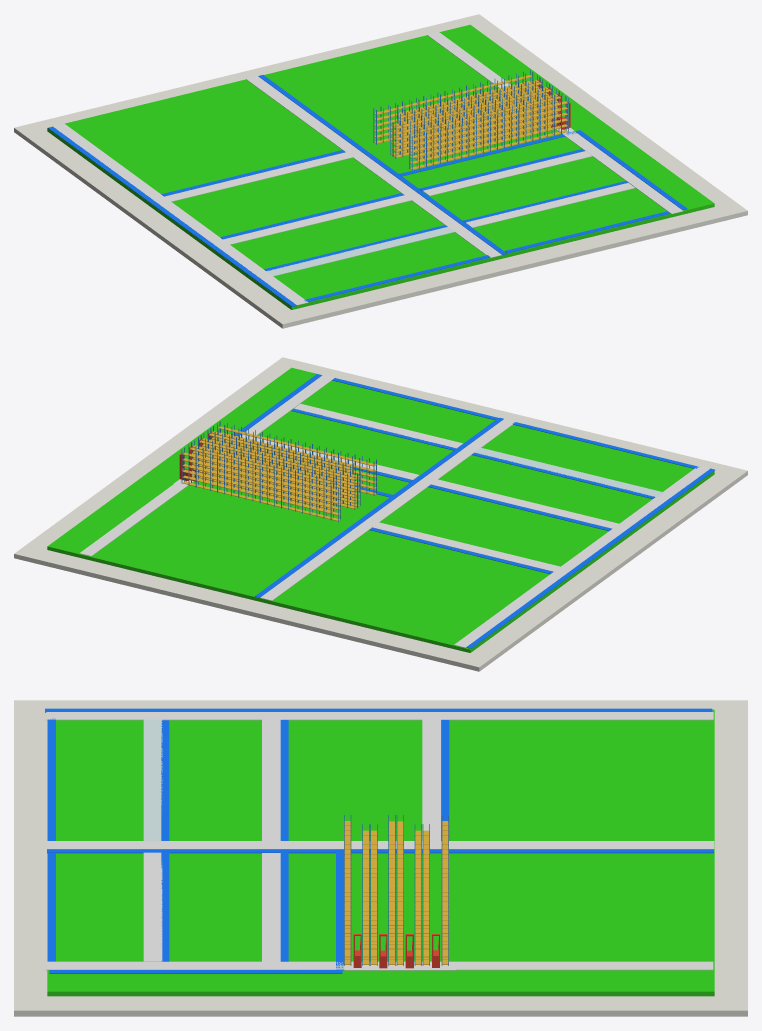
Rendered from whmodel.glb.
3 views of the same model, one above another, from view 1: azimuth 30°, elevation 25°; view 2: azimuth 150°, elevation 25°; view 3: azimuth 270°, elevation 25° (orthographic). The views are drawn at different scales.
Parts seen in each view (by area): view 1: 主厂区地面, 地面, 货架层板4044.001, 货架层板4044.004, 通道, 通道.001, 货架立柱4044.001, 货架立柱4044.002, 通道.005, 人行道.001, 人行道, 横向通道.020 (+12 smaller); view 2: 主厂区地面, 地面, 货架层板4044.001, 货架层板4044.004, 通道, 通道.001, 货架立柱4044.002, 货架立柱4044.001, 通道.005, 人行道.001, 人行道, 横向通道.020 (+10 smaller); view 3: 主厂区地面, 地面, 通道.001, 通道.005, 通道, 货架层板4044.001, 人行道, 人行道.001, 横向通道.022, 横向通道.021, 横向通道.020, 横向通道.030 (+13 smaller).
Part boxes in pixels (<box>): 主厂区地面: <box>47,24,714,309</box>; 地面: <box>14,14,747,328</box>; 货架层板4044.001: <box>395,80,560,160</box>; 货架层板4044.004: <box>374,75,567,169</box>; 通道: <box>246,76,501,257</box>; 通道.001: <box>52,123,308,305</box>; 货架立柱4044.001: <box>395,75,562,159</box>; 货架立柱4044.002: <box>373,70,568,170</box>; 通道.005: <box>427,32,683,213</box>; 人行道.001: <box>48,127,297,306</box>; 人行道: <box>258,75,507,254</box>; 横向通道.020: <box>162,152,352,201</box>; 主厂区地面: <box>47,367,714,652</box>; 地面: <box>14,357,747,671</box>; 货架层板4044.001: <box>189,431,355,511</box>; 货架层板4044.004: <box>182,426,376,521</box>; 通道: <box>260,419,515,600</box>; 通道.001: <box>454,466,709,647</box>; 货架立柱4044.002: <box>181,421,376,522</box>; 货架立柱4044.001: <box>188,426,355,511</box>; 通道.005: <box>79,374,335,556</box>; 人行道.001: <box>466,468,714,648</box>; 人行道: <box>255,417,503,597</box>; 横向通道.020: <box>372,522,562,571</box>; 主厂区地面: <box>47,709,714,996</box>; 地面: <box>14,700,747,1016</box>; 通道.001: <box>46,712,713,720</box>; 通道.005: <box>46,961,713,970</box>; 通道: <box>47,841,714,849</box>; 货架层板4044.001: <box>363,830,429,964</box>; 人行道: <box>47,849,713,853</box>; 人行道.001: <box>45,708,712,712</box>; 横向通道.022: <box>143,718,162,840</box>; 横向通道.021: <box>262,718,280,841</box>; 横向通道.020: <box>422,718,440,840</box>; 横向通道.030: <box>143,852,162,961</box>.
Bounding box in the file's own units: 110 × 9.69 × 110.
